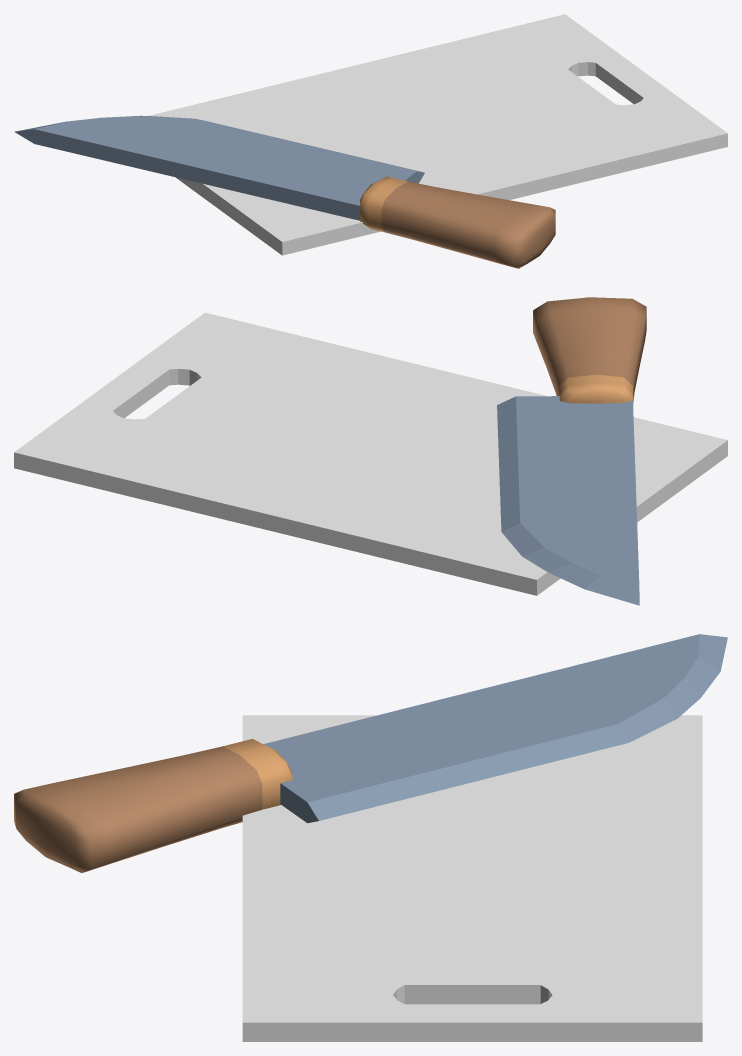
The model's file is Environment_CuttingTable.fbx.
3 renders of one model, top to bottom at view 1: azimuth 30°, elevation 25°; view 2: azimuth 150°, elevation 25°; view 3: azimuth 270°, elevation 25°, orthographic. The views are drawn at different scales.
Visible parts, largest first — view 1: Environment_CuttingTable; view 2: Environment_CuttingTable; view 3: Environment_CuttingTable.
Boxes of the visible parts, x1,y1,x2,y2 form: Environment_CuttingTable: (14, 14, 727, 268); Environment_CuttingTable: (14, 297, 727, 605); Environment_CuttingTable: (14, 634, 727, 1041).
Bounding box in the file's own units: 210 × 15.15 × 169.
